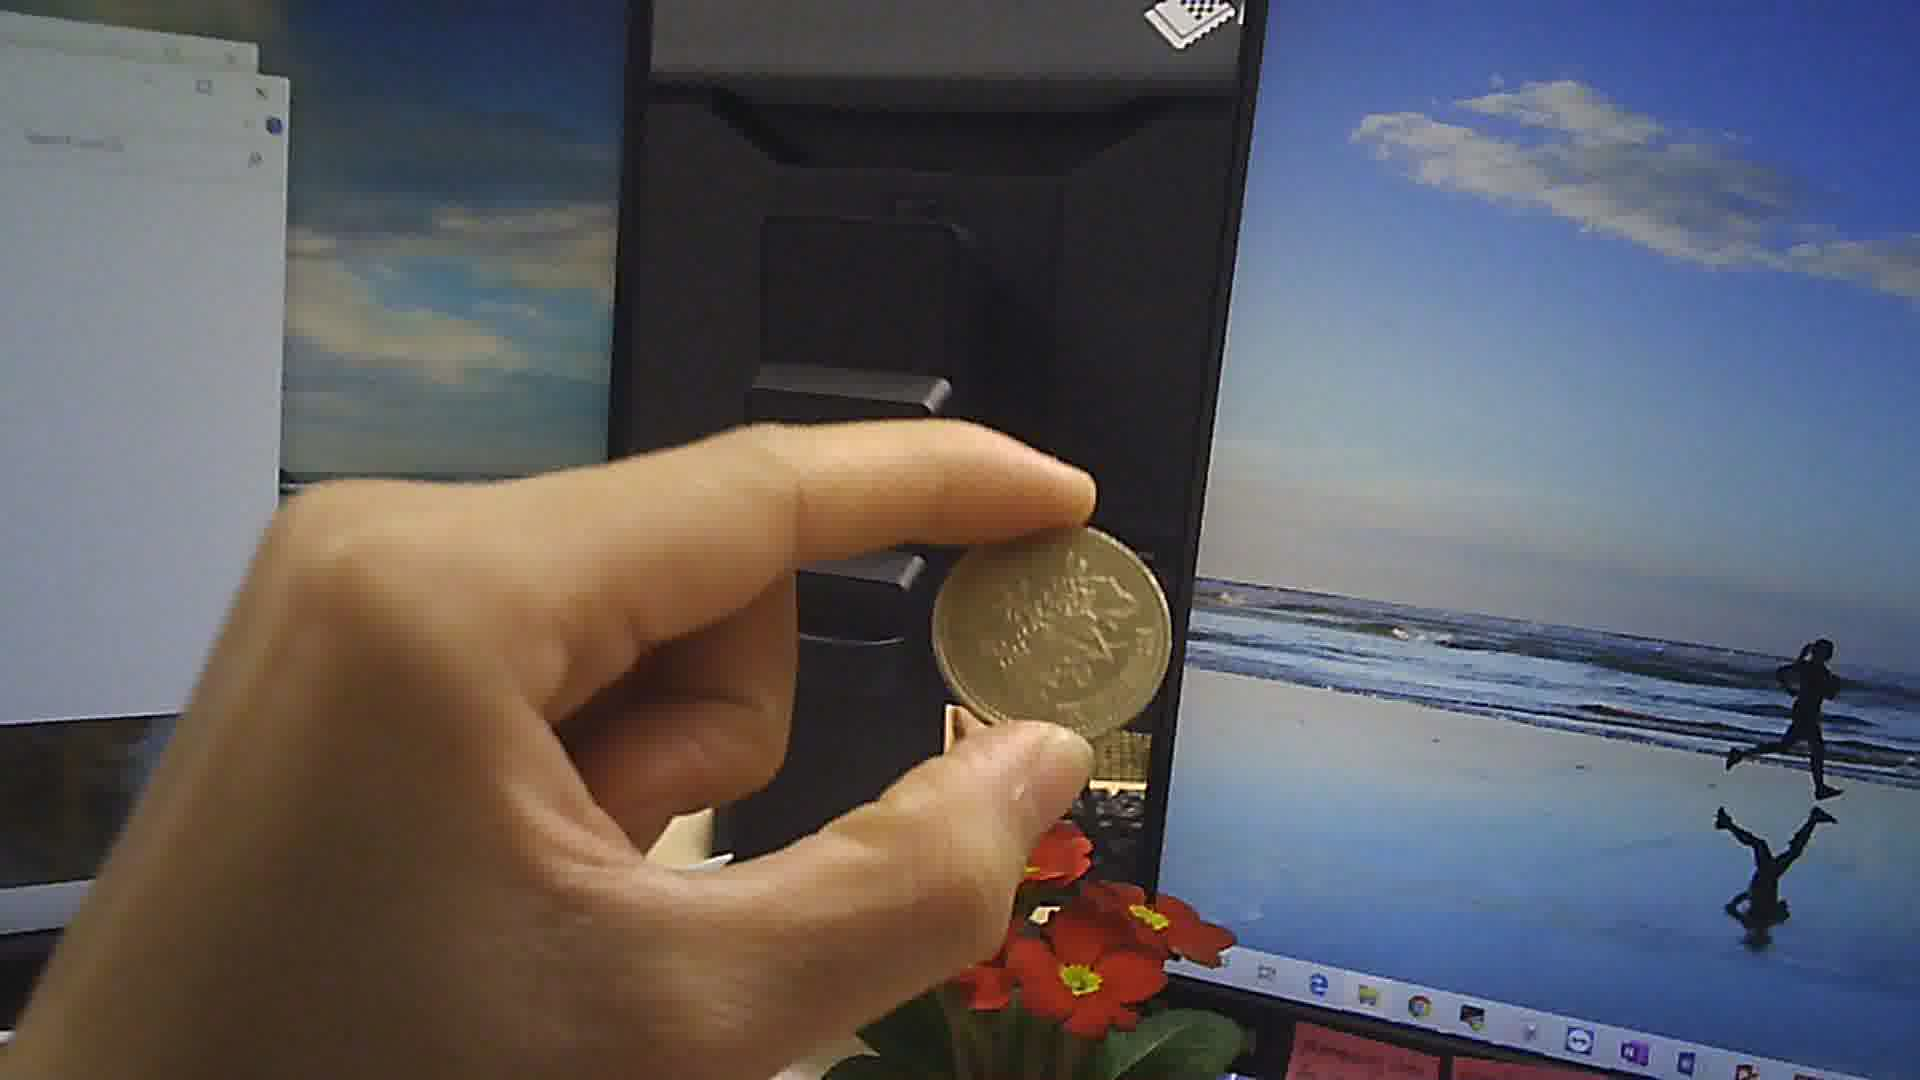500 Yen: (924, 521, 1178, 741)
